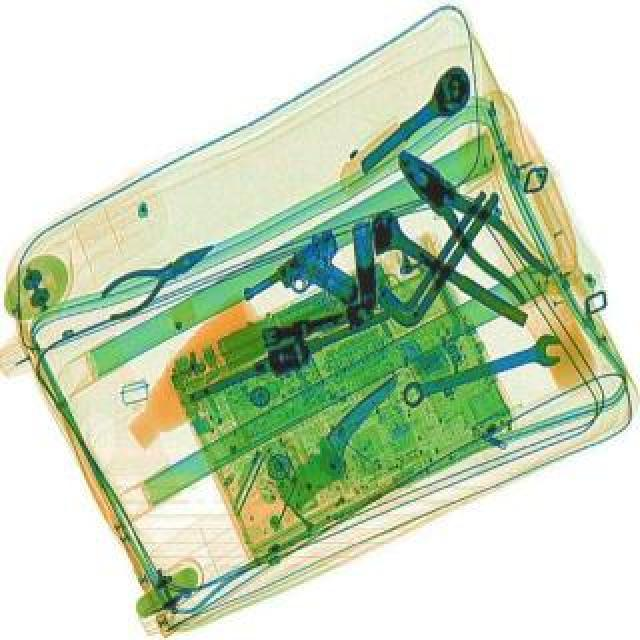gun: (234, 222, 378, 348)
scissors: (398, 330, 568, 414)
wrench: (380, 138, 560, 304), (94, 226, 228, 322)
